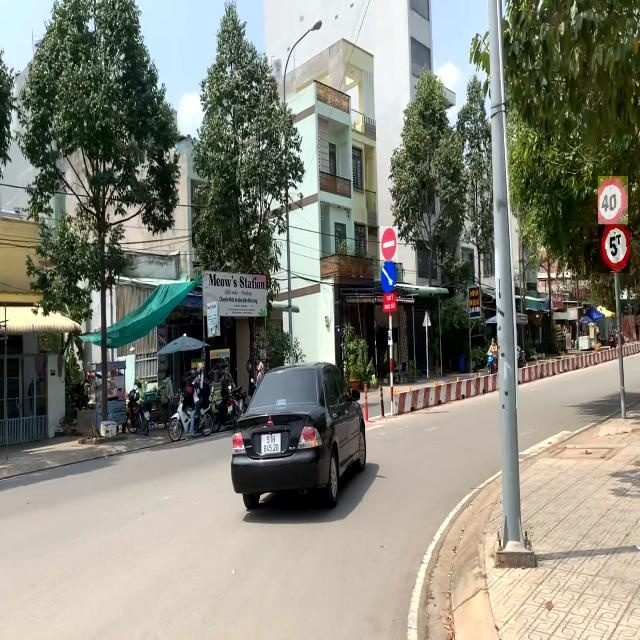bien_cam: (599, 226, 630, 274), (598, 177, 628, 224), (380, 226, 398, 262), (381, 260, 398, 294)
